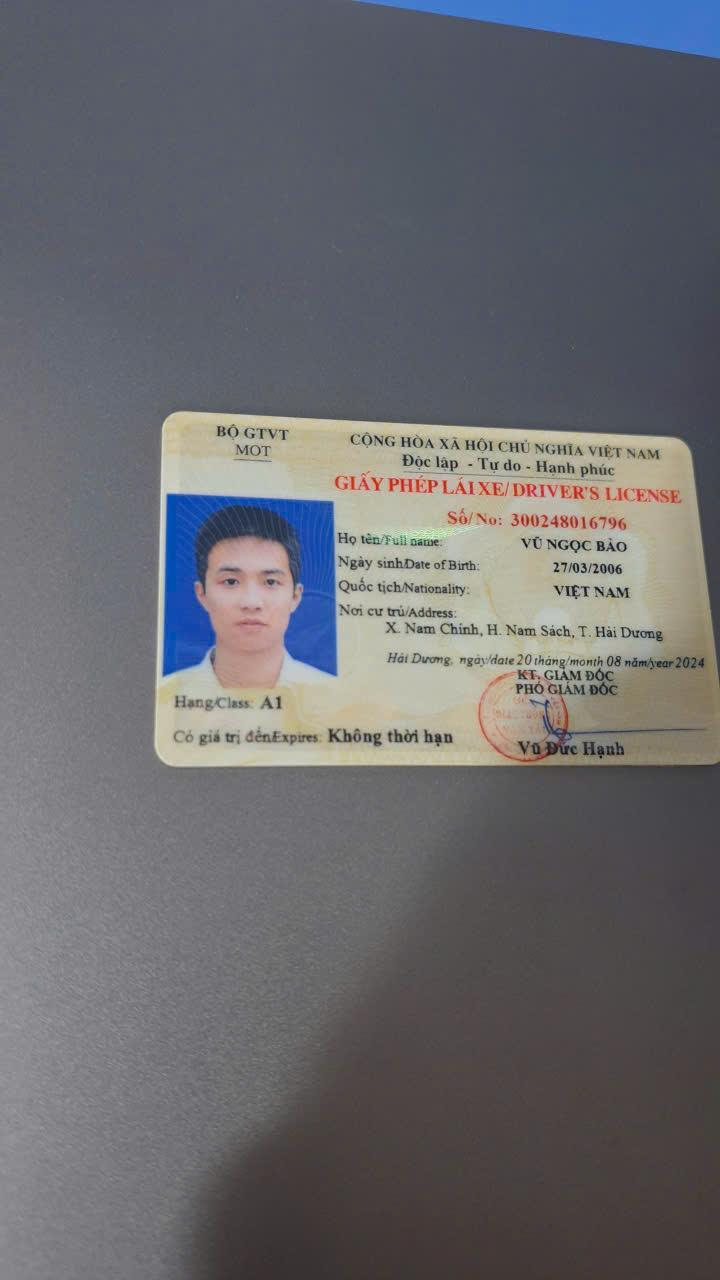gplx: (148, 403, 720, 772)
